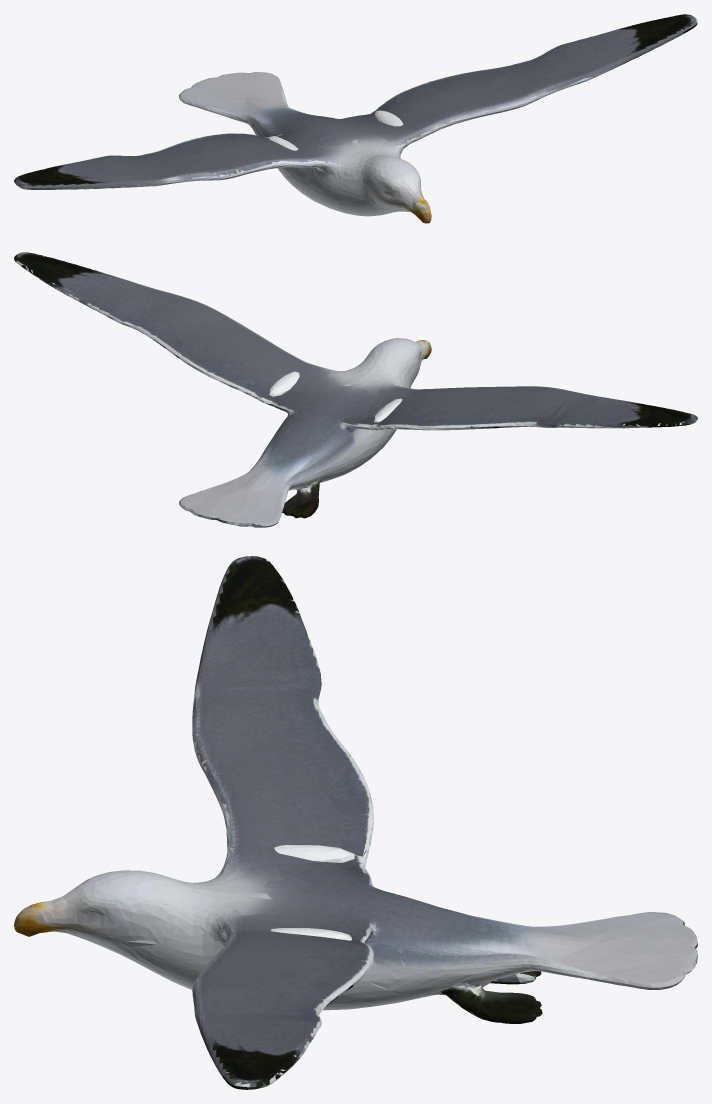
File: sea_gull.glb
3 views of the same model, one above another, from view 1: azimuth 30°, elevation 25°; view 2: azimuth 150°, elevation 25°; view 3: azimuth 270°, elevation 25° (orthographic). The views are drawn at different scales.
Visible parts, largest first — view 1: SeaGullBody, PART_wing_L, PART_wing_R; view 2: SeaGullBody, PART_wing_L, PART_wing_R; view 3: SeaGullBody, PART_wing_R, PART_wing_L.
Part boxes in pixels (x1=…): SeaGullBody: x1=179, y1=72, x2=431, y2=223; PART_wing_L: x1=374, y1=14, x2=697, y2=140; PART_wing_R: x1=14, y1=133, x2=308, y2=189; SeaGullBody: x1=179, y1=338, x2=431, y2=527; PART_wing_L: x1=14, y1=252, x2=306, y2=402; PART_wing_R: x1=373, y1=386, x2=697, y2=430; SeaGullBody: x1=14, y1=845, x2=697, y2=1023; PART_wing_R: x1=192, y1=556, x2=373, y2=862; PART_wing_L: x1=192, y1=928, x2=373, y2=1089.
Bounding box in the file's own units: 1.29 × 0.2048 × 0.7021.
5 materials, 3 textured.
